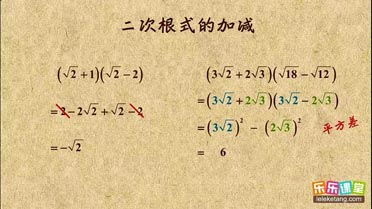sqrt: (61, 62, 81, 81), (67, 135, 86, 155), (278, 64, 300, 81), (310, 64, 330, 82), (250, 90, 268, 109), (108, 100, 128, 117), (317, 90, 335, 108), (250, 64, 269, 81), (276, 118, 295, 135), (216, 91, 235, 107), (219, 117, 235, 136), (83, 99, 97, 119), (219, 63, 234, 81), (106, 63, 121, 79)
square: (296, 117, 302, 125), (239, 116, 244, 125)
